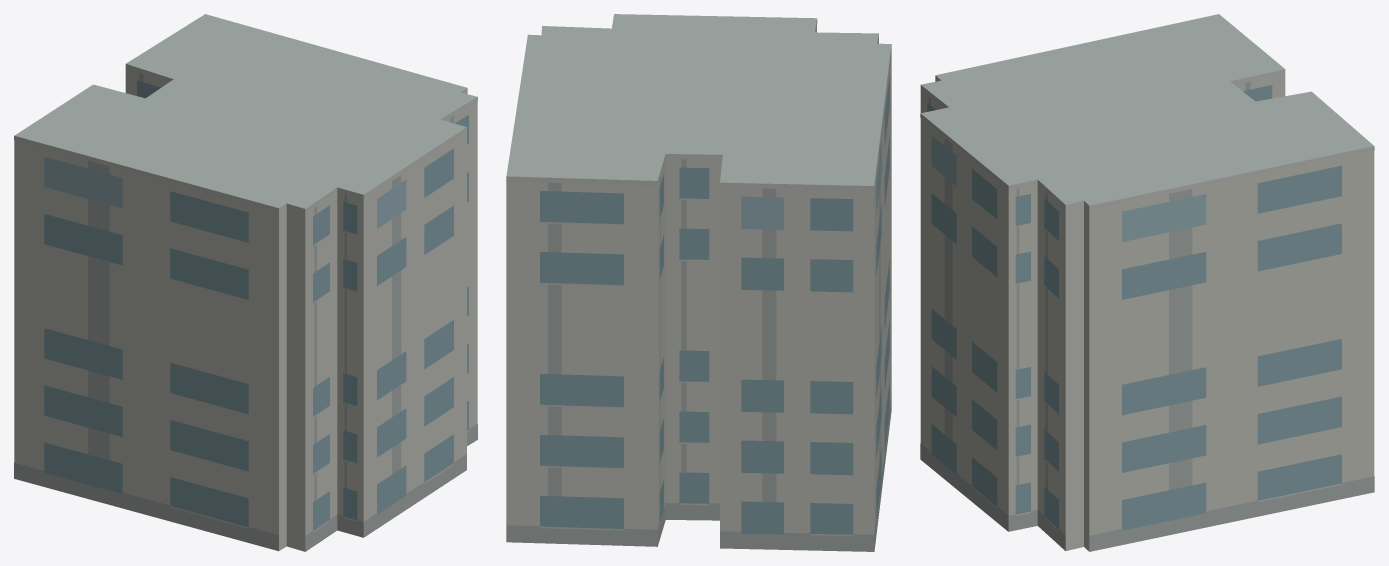
File: survey-upis-32836015.glb
The picture shows the model from 3 angles, left to right: view 1: azimuth 30°, elevation 25°; view 2: azimuth 150°, elevation 25°; view 3: azimuth 270°, elevation 25°; orthographic projection. The views are drawn at different scales.
Visible parts, largest first — view 1: survey-upis-32836015.tmp; view 2: survey-upis-32836015.tmp; view 3: survey-upis-32836015.tmp.
Part boxes in pixels (bbox=[...]): survey-upis-32836015.tmp: bbox=[14, 14, 477, 551]; survey-upis-32836015.tmp: bbox=[506, 14, 891, 551]; survey-upis-32836015.tmp: bbox=[920, 14, 1374, 551].
Size of the model in its own units: 20.9 by 17.6 by 20.92.
